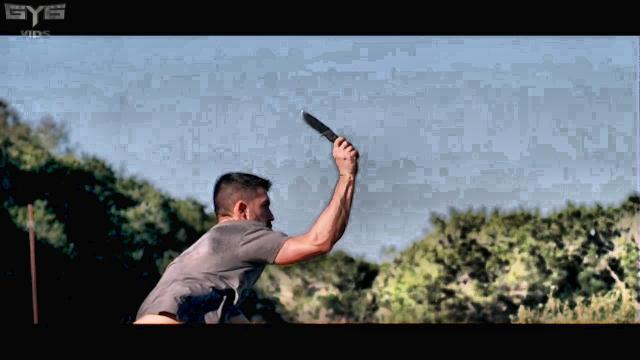knife: (295, 102, 363, 166)
